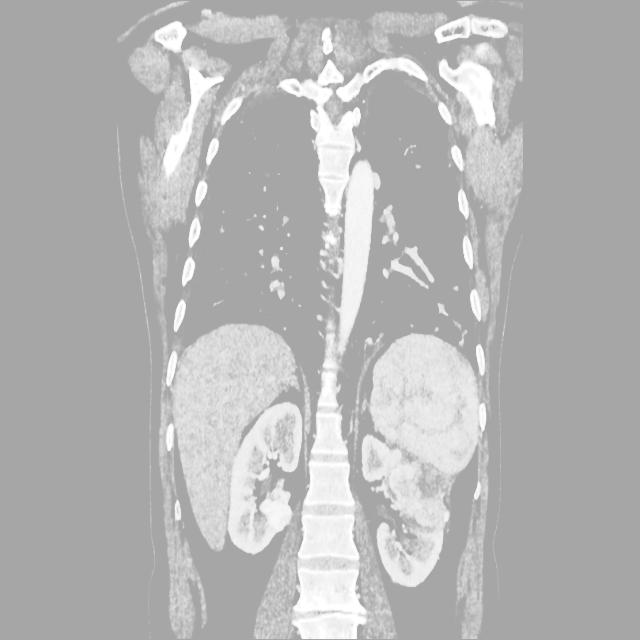TUMOR: (143, 235, 566, 550)
